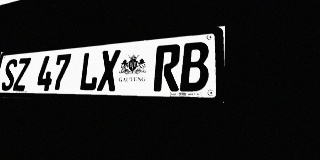4: (36, 55, 56, 91)
7: (50, 54, 71, 91)
B: (180, 41, 209, 91)
L: (78, 51, 101, 91)
R: (153, 44, 181, 91)
S: (0, 59, 18, 91)
X: (97, 49, 121, 91)
Z: (12, 57, 31, 91)
